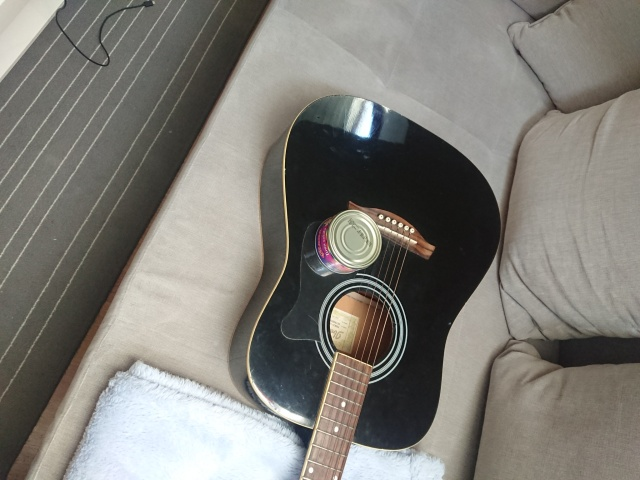Giana Tuna Salad Mexico 185g: (313, 208, 384, 277)
